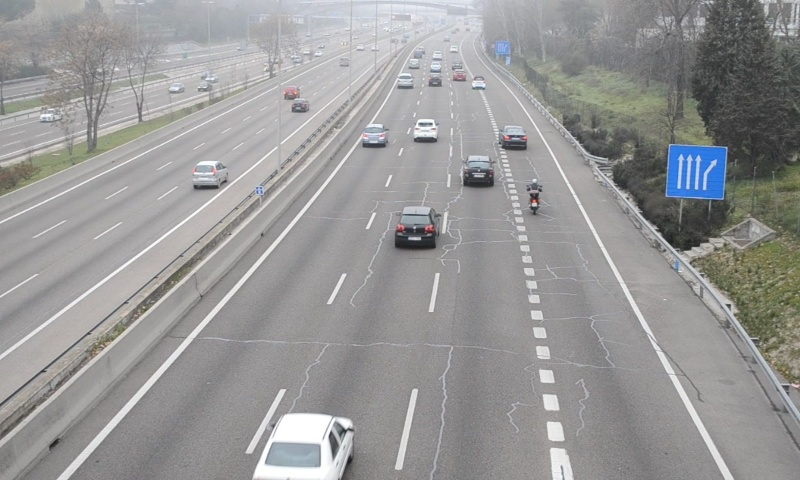car: (254, 412, 354, 478), (396, 205, 440, 246), (461, 156, 496, 189), (498, 124, 528, 150), (413, 119, 439, 142), (362, 124, 388, 146), (396, 72, 413, 88), (472, 74, 486, 90)
motorcycle: (526, 177, 543, 216)
